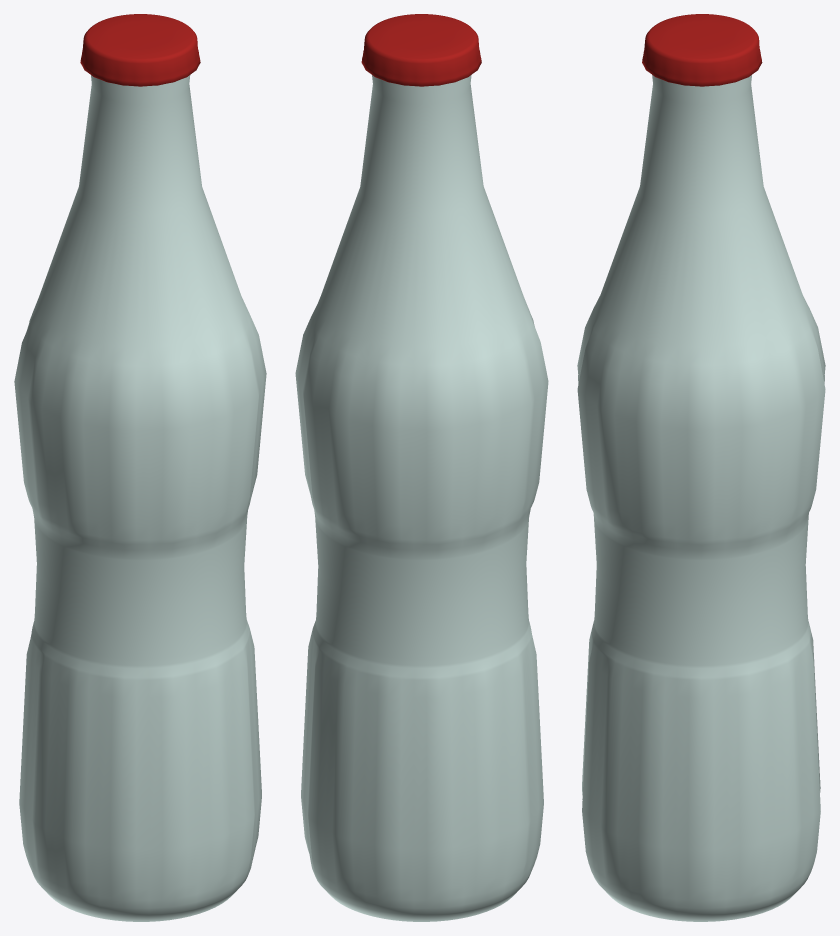
Rendered from bottle_contour.glb.
3 renders of one model, left to right at view 1: azimuth 30°, elevation 25°; view 2: azimuth 150°, elevation 25°; view 3: azimuth 270°, elevation 25°, orthographic.
Visible parts, largest first — view 1: Glass, Cap; view 2: Glass, Cap; view 3: Glass, Cap.
Boxes of the visible parts, x1,y1,x2,y2 form: Glass: [14, 75, 266, 921]; Cap: [80, 14, 200, 86]; Glass: [295, 75, 548, 921]; Cap: [361, 14, 481, 86]; Glass: [577, 75, 825, 921]; Cap: [642, 14, 762, 86].
Bounding box in the file's own units: 0.0632 × 0.233 × 0.062.
